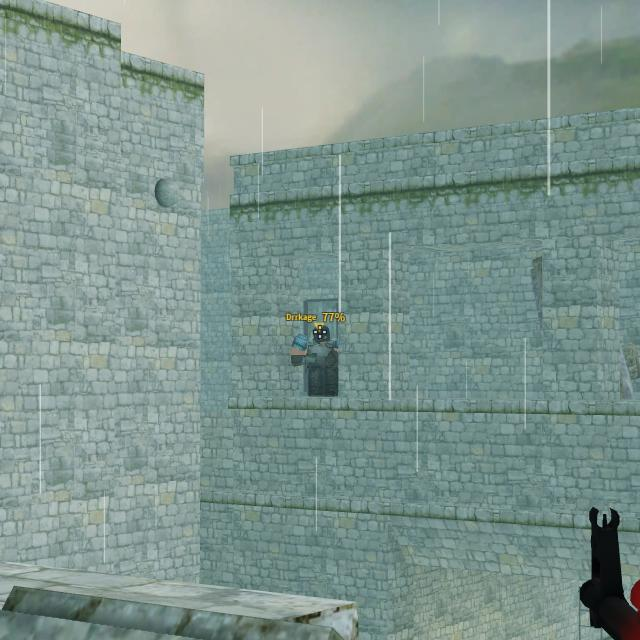Head: (314, 324, 330, 342)
Player: (292, 324, 340, 396)
